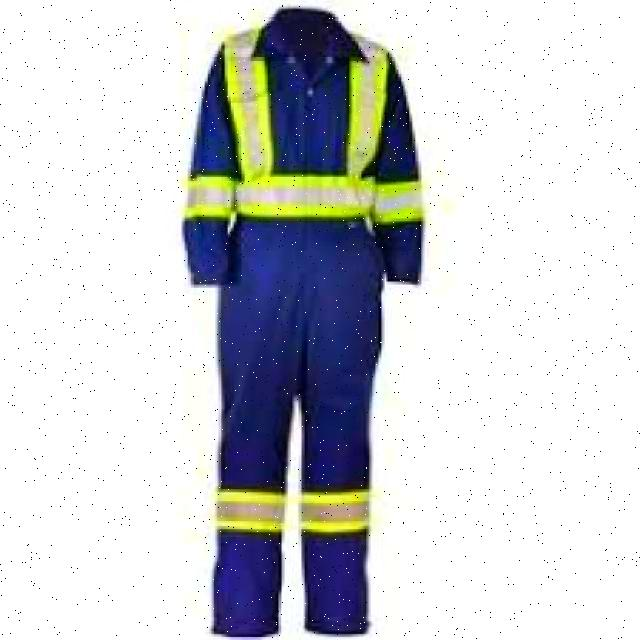Mask: (187, 26, 426, 585)
